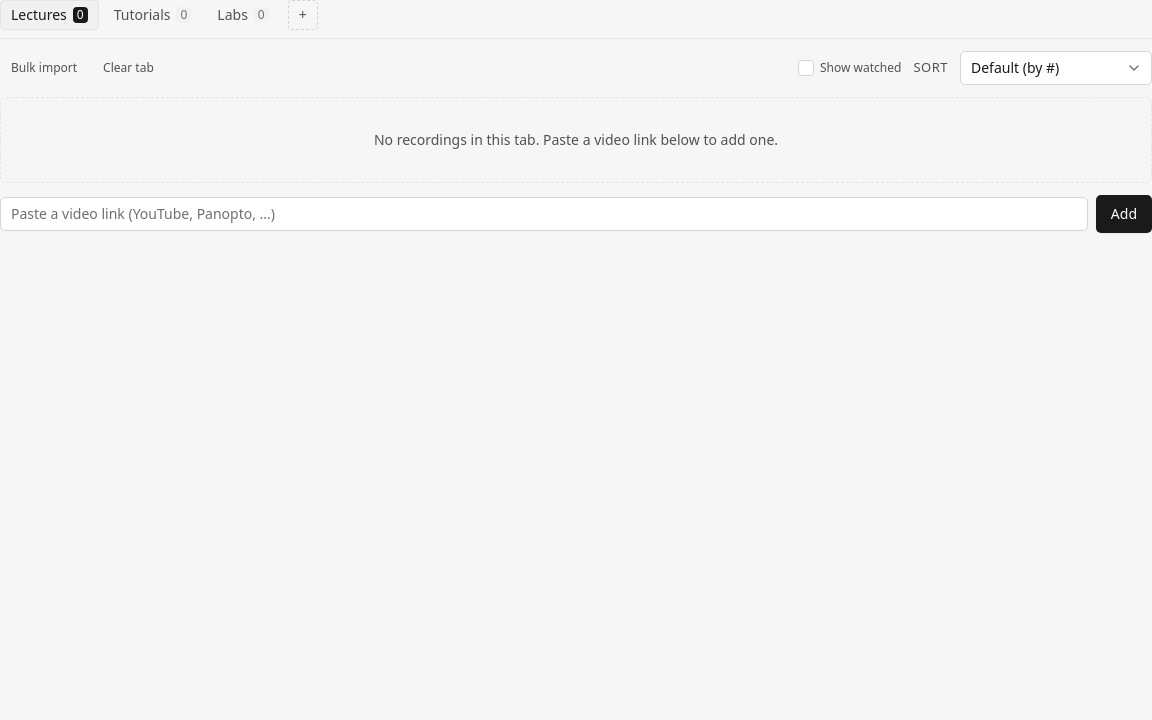
it: RecordingsTab › renames a custom tab
The image size is (1152, 720).
Click the button "Labs 0" at (243, 15), box [206,0,280,30]
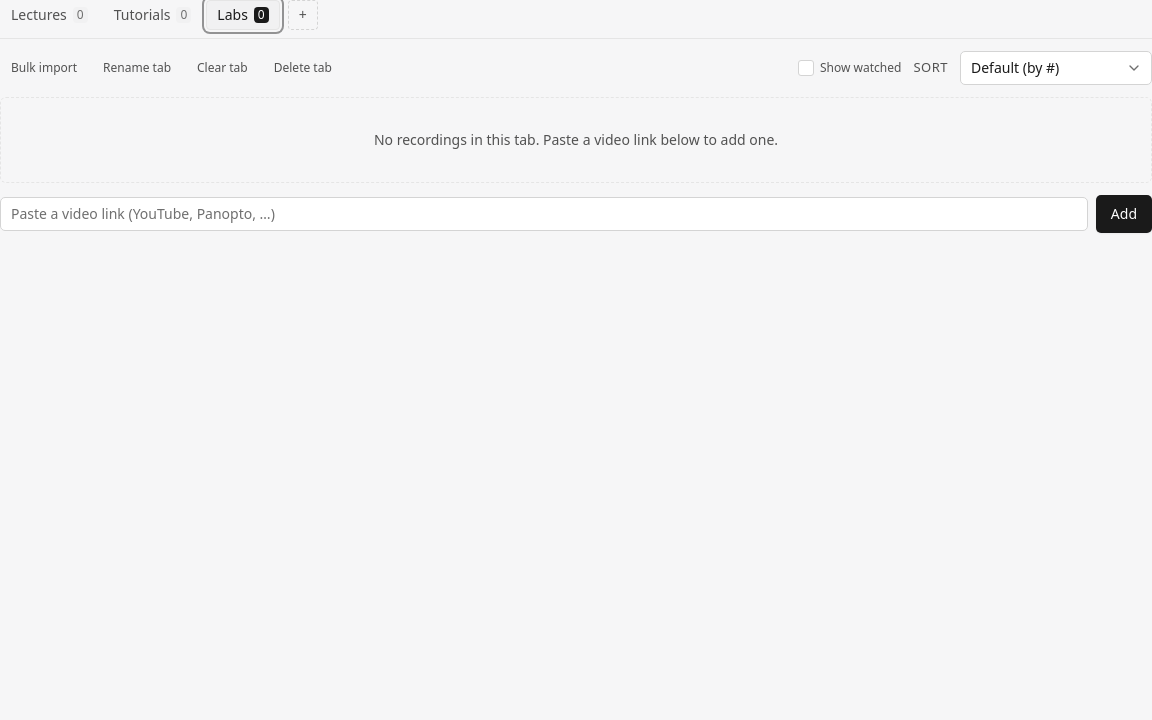
Click the button "Rename tab" at (137, 68), box [92,55,182,81]
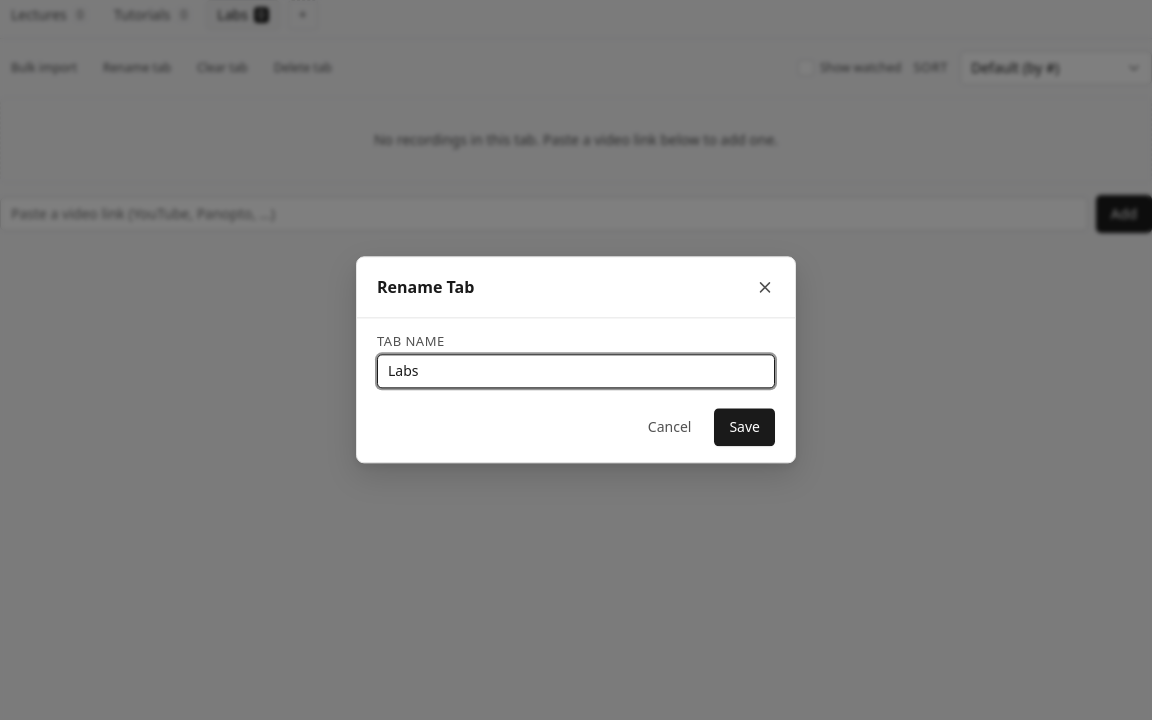
Now the field labelled "Tab name" holds "Labs"
Replace the text in the field labelled "Tab name" with "Workshops" at (576, 372), box [377,355,775,389]
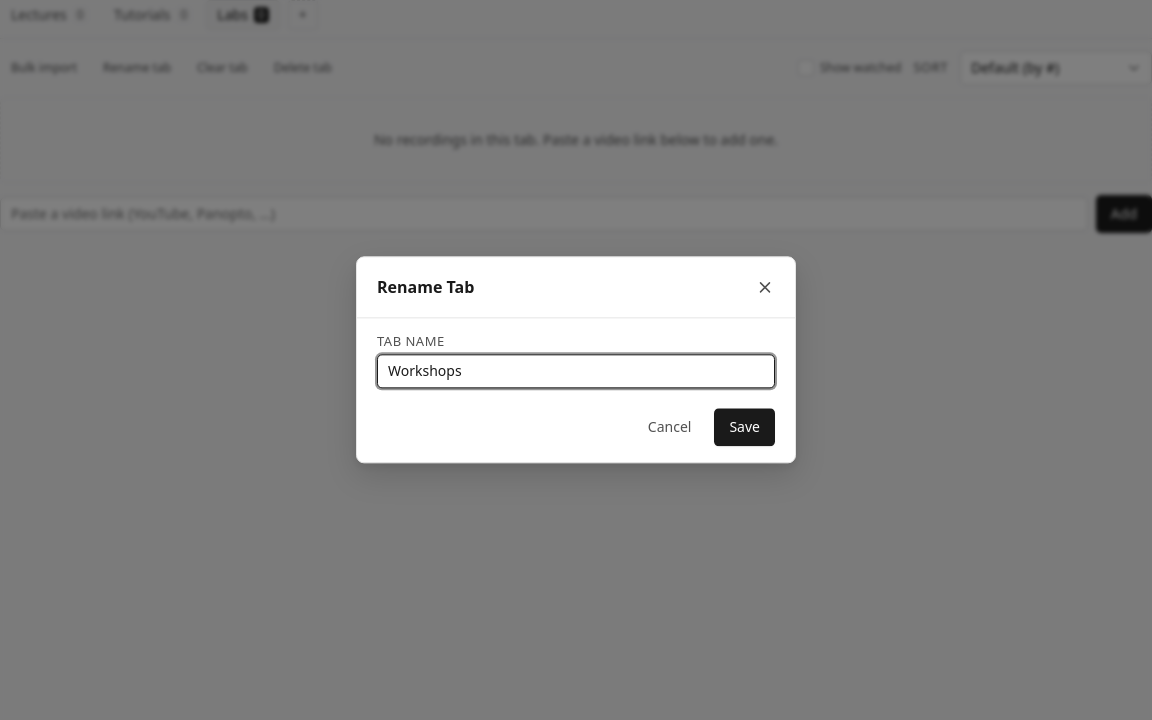
Click the button "Save" at (745, 428), box [714,409,775,447]
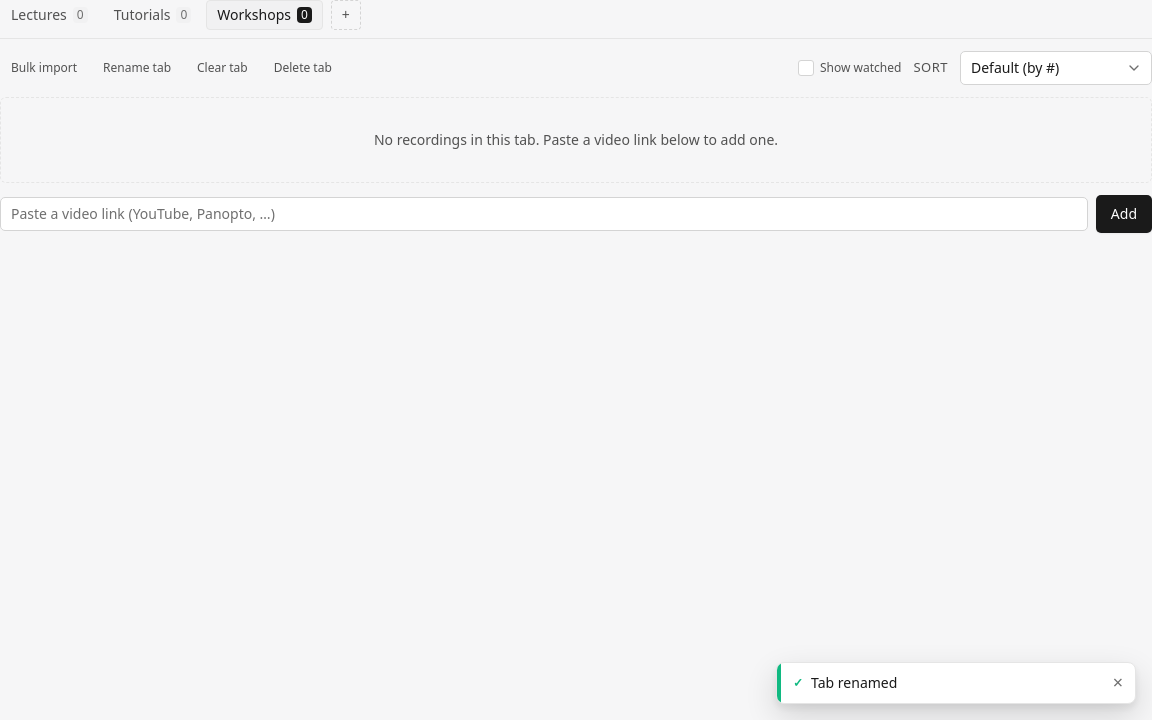
Now the button "Workshops 0" is shown, box [206,0,323,30]
Now the text "Workshops" is shown, box [217,5,291,25]
Now the button "Labs" no longer shows "Labs"
